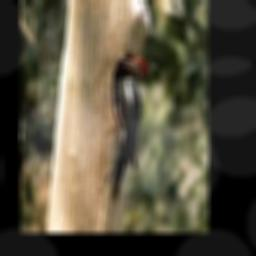Woodpecker: (111, 56, 147, 200)
